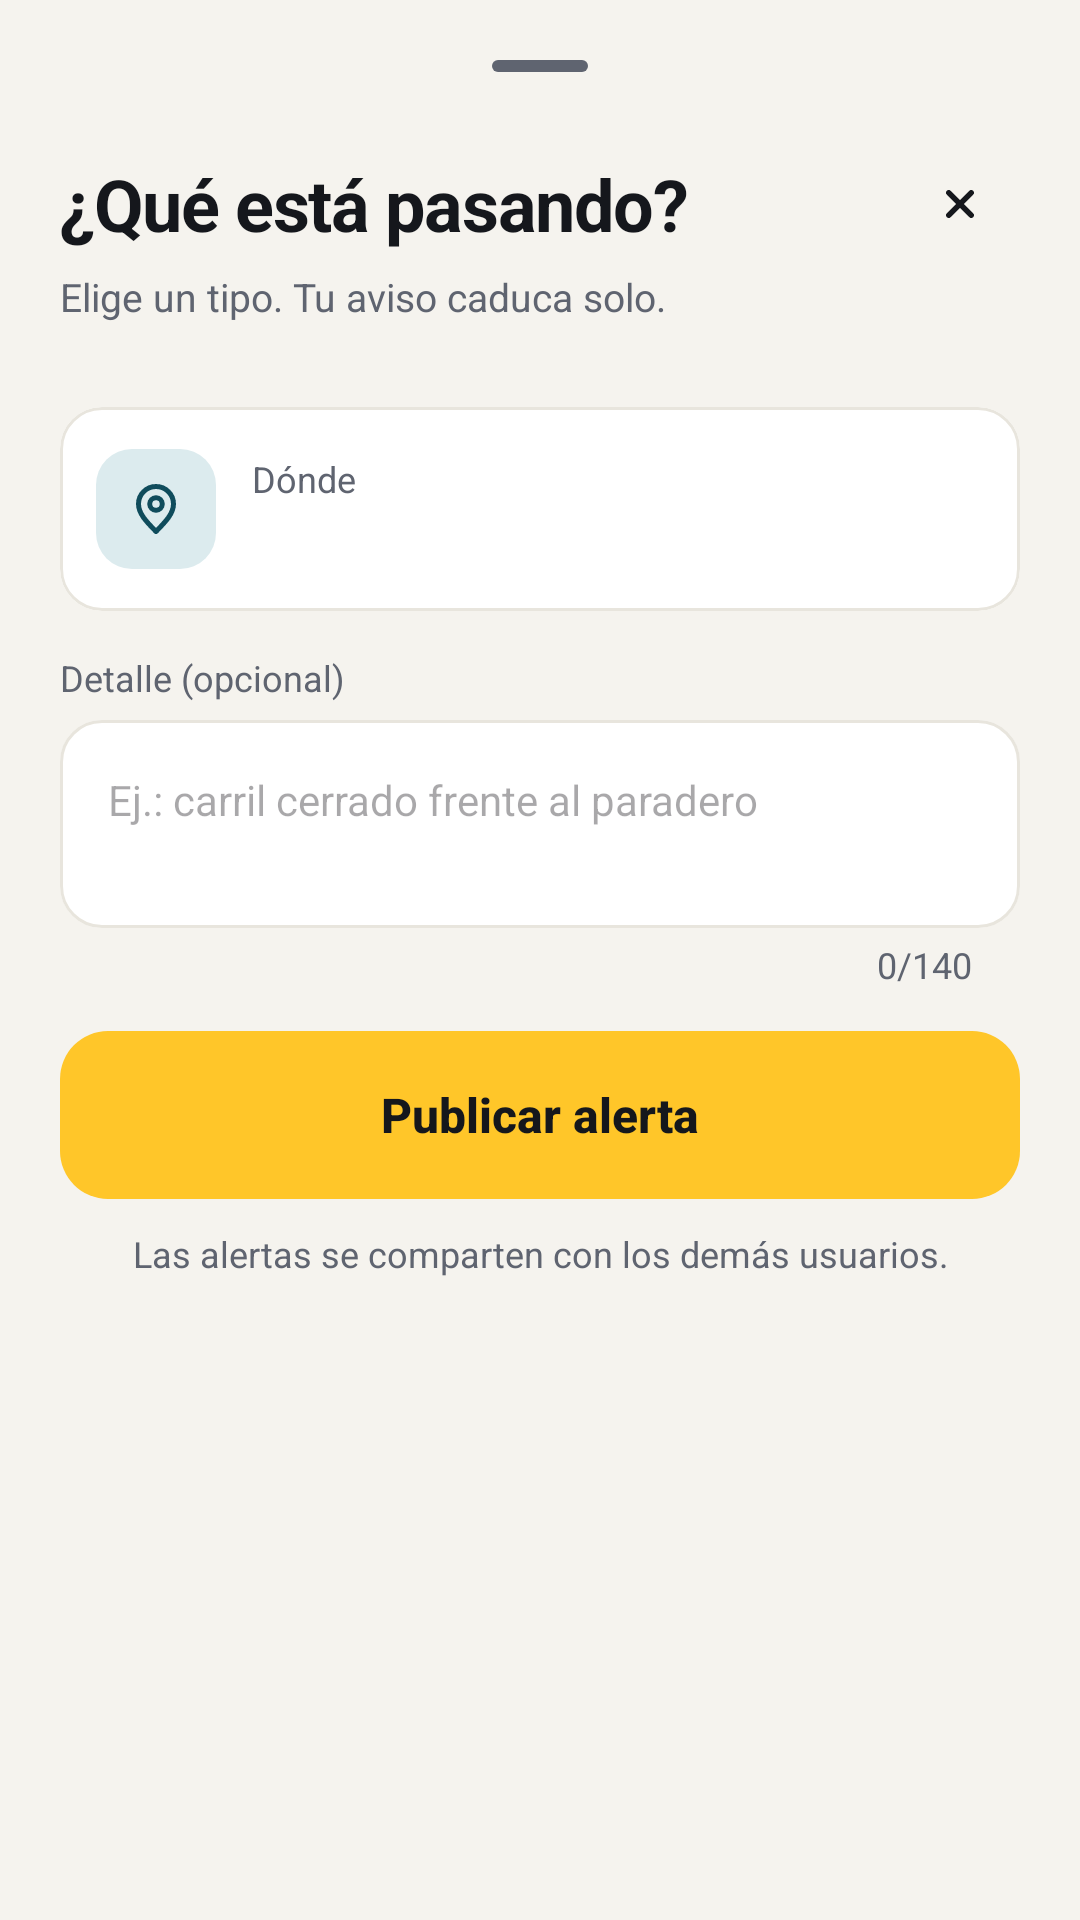

Locate icon controls on the screen. Image size 1080*1920, boxes as [left=x1, top=y1, right=x2, bottom=y2].
Cerrar: [left=946, top=190, right=974, bottom=218]
